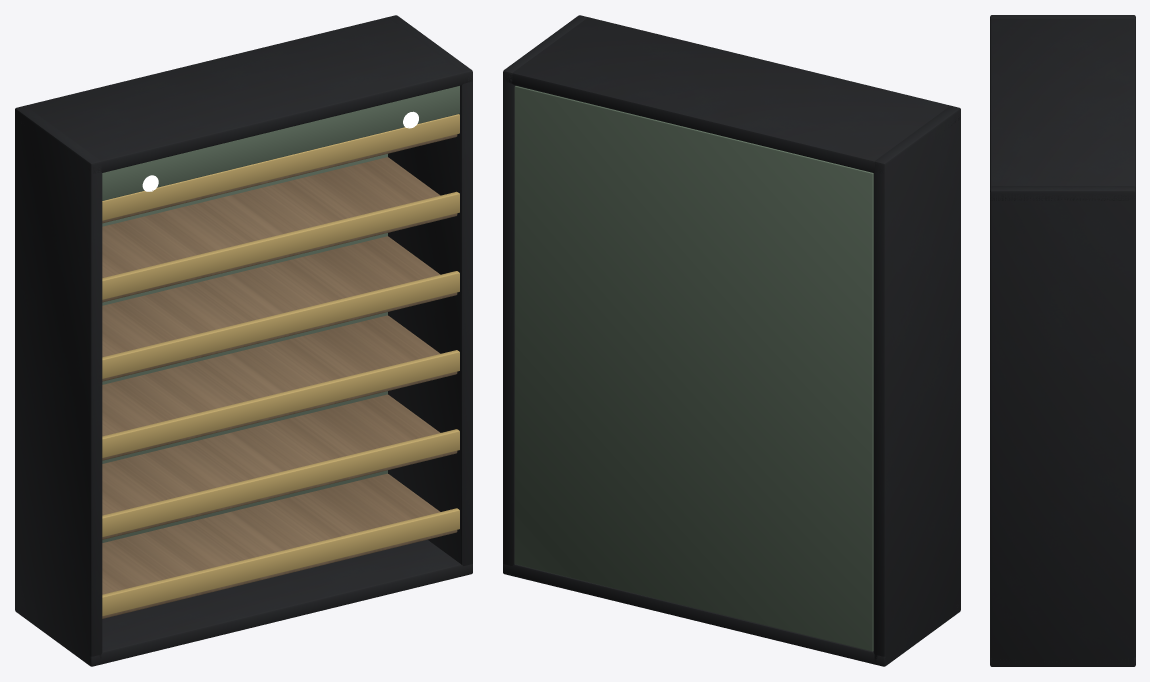
The model's file is pf_display_snack_shelving_t3.glb.
The picture shows the model from 3 angles, left to right: view 1: azimuth 30°, elevation 25°; view 2: azimuth 150°, elevation 25°; view 3: azimuth 270°, elevation 25°; orthographic projection. The views are drawn at different scales.
Parts seen in each view (by area): view 1: Case_Left, Case_Top, Case_Right, Shelf_03, Shelf_02, Shelf_05, Shelf_01, Shelf_04, Case_Base, Header_Back, Shelf_Lip_01, Shelf_Lip_05 (+6 smaller); view 2: Case_Back, Case_Left, Case_Top, Case_Right, Case_Base; view 3: Case_Right, Case_Top, Case_Left, Case_Base.
Boxes of the visible parts, bbox=[...] form: Case_Left: bbox=[15, 105, 102, 666]; Case_Top: bbox=[20, 17, 472, 173]; Case_Right: bbox=[388, 15, 472, 574]; Shelf_03: bbox=[102, 315, 457, 460]; Shelf_02: bbox=[102, 394, 457, 539]; Shelf_05: bbox=[102, 157, 457, 302]; Shelf_01: bbox=[102, 473, 457, 618]; Shelf_04: bbox=[102, 236, 457, 381]; Case_Base: bbox=[15, 539, 472, 666]; Header_Back: bbox=[102, 86, 459, 200]; Shelf_Lip_01: bbox=[102, 508, 459, 616]; Shelf_Lip_05: bbox=[102, 191, 459, 299]; Case_Back: bbox=[514, 86, 873, 651]; Case_Left: bbox=[873, 105, 960, 666]; Case_Top: bbox=[504, 17, 960, 172]; Case_Right: bbox=[503, 15, 587, 574]; Case_Base: bbox=[503, 564, 960, 666]; Case_Right: bbox=[990, 186, 1135, 666]; Case_Top: bbox=[990, 18, 1135, 200]; Case_Left: bbox=[990, 15, 1135, 20]; Case_Base: bbox=[990, 657, 1135, 666].
Size of the model in its own units: 1.55 by 1.95 by 0.54.
Materials: 6 (2 with a texture image).
